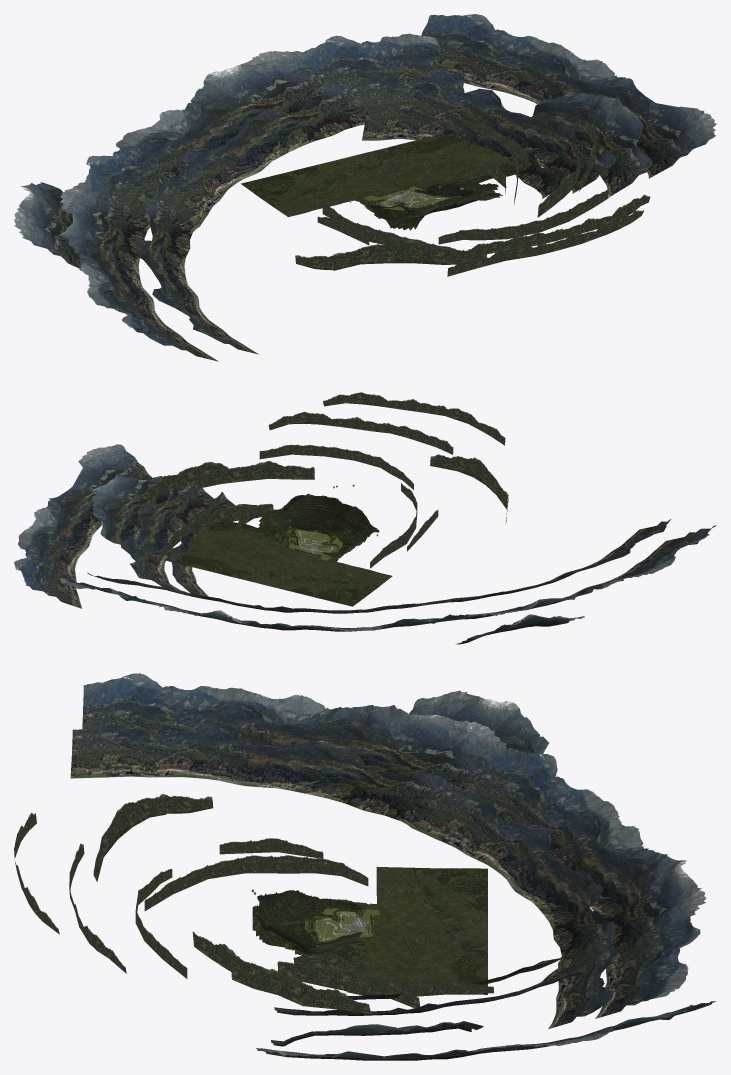
The model's file is redbull_ring_2025_layout-optimized-optimized.glb.
3 views of the same model, one above another, from view 1: azimuth 30°, elevation 25°; view 2: azimuth 150°, elevation 25°; view 3: azimuth 270°, elevation 25° (orthographic). The views are drawn at different scales.
Parts seen in each view (by area): view 1: rbring_0; view 2: rbring_0; view 3: rbring_0.
Boxes of the visible parts, <box> form: rbring_0: <box>14,14,716,361</box>; rbring_0: <box>14,392,716,644</box>; rbring_0: <box>14,673,716,1060</box>.
Bounding box in the file's own units: 16384 × 2019 × 12986.
100 materials, 99 textured.
